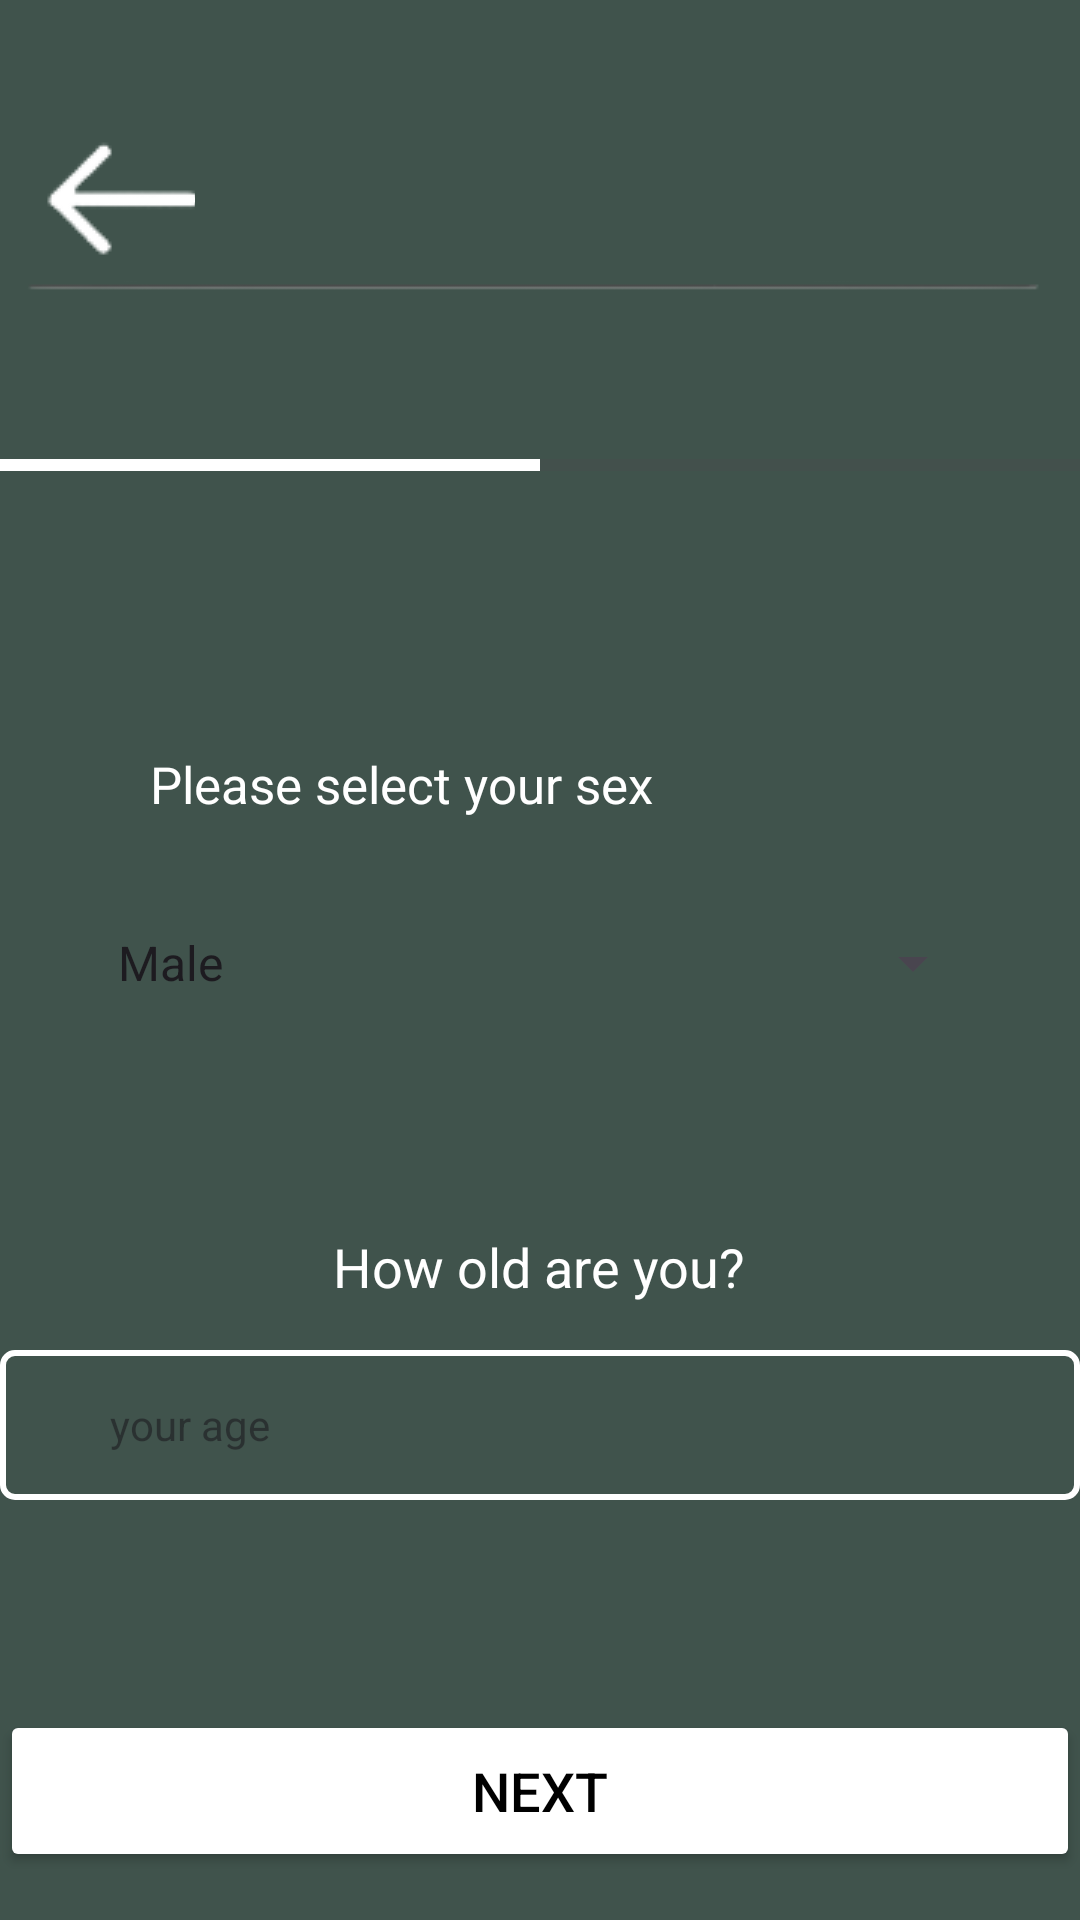

Icon click points for this 1080 x 1920 phone screenshot, format point (x, y):
backbuttt: point (121, 199)
